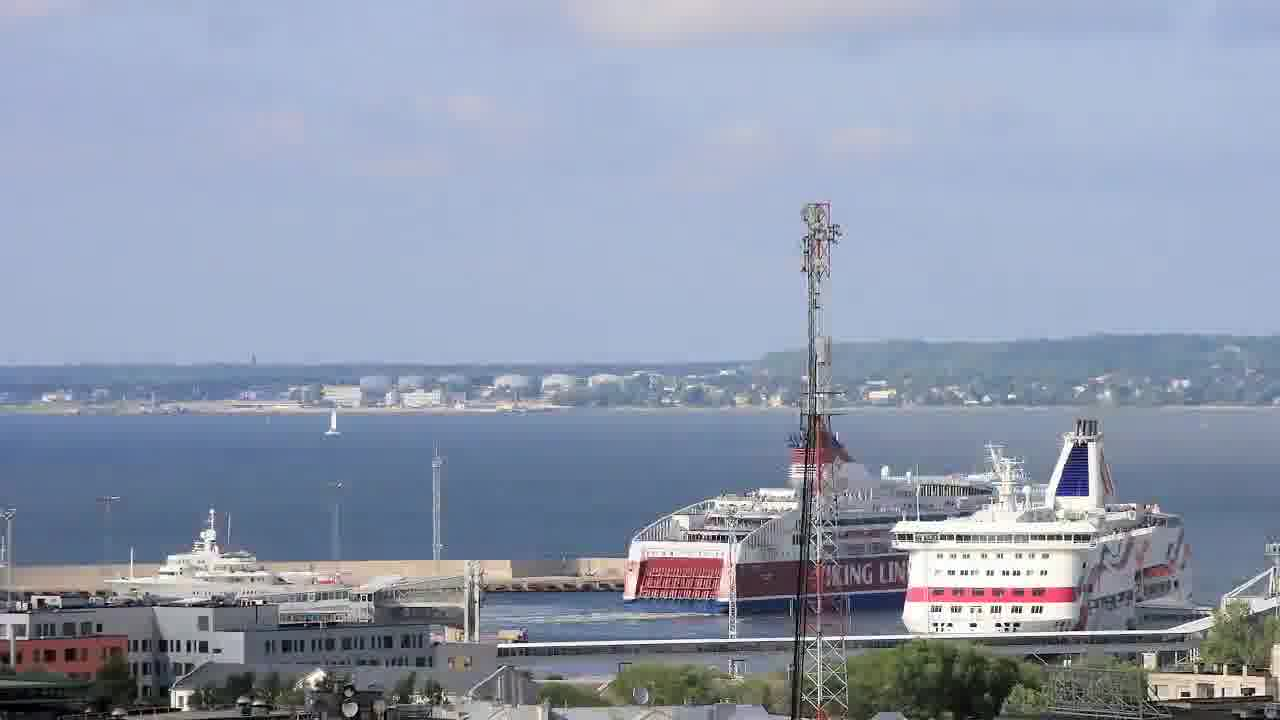type-2: (309, 392, 364, 451)
type-3: (868, 415, 1225, 638), (627, 429, 934, 626), (89, 518, 402, 620)
